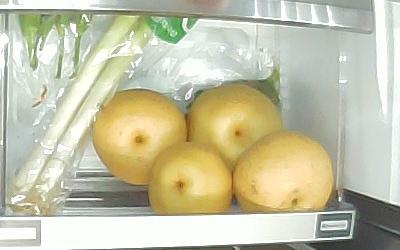pear: (93, 89, 187, 185), (232, 129, 333, 213), (185, 83, 282, 170), (148, 141, 232, 214)
